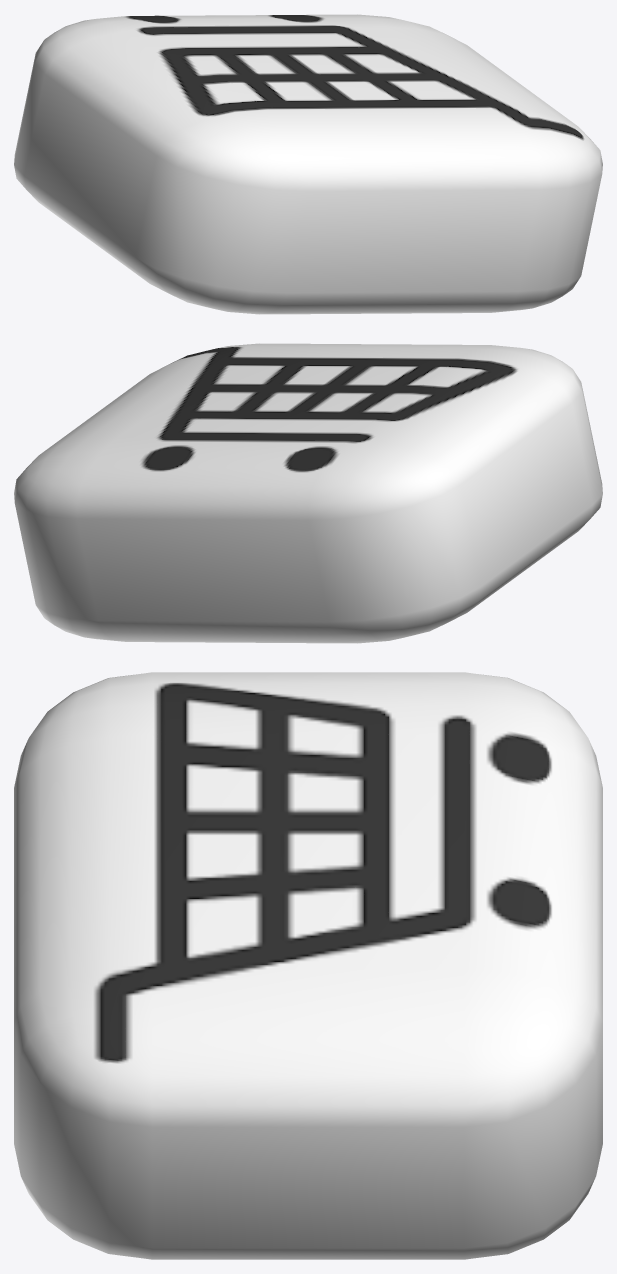
File: tasto_shoppa.fbx
3 renders of one model, top to bottom at view 1: azimuth 30°, elevation 25°; view 2: azimuth 150°, elevation 25°; view 3: azimuth 270°, elevation 25°, orthographic. The views are drawn at different scales.
Visible parts, largest first — view 1: Cube.014; view 2: Cube.014; view 3: Cube.014.
Part boxes in pixels (left/top/right/bottom): Cube.014: left=14, top=14, right=602, bottom=314; Cube.014: left=14, top=343, right=602, bottom=643; Cube.014: left=14, top=672, right=602, bottom=1259.
Size of the model in its own units: 85.16 by 44.36 by 67.82.
